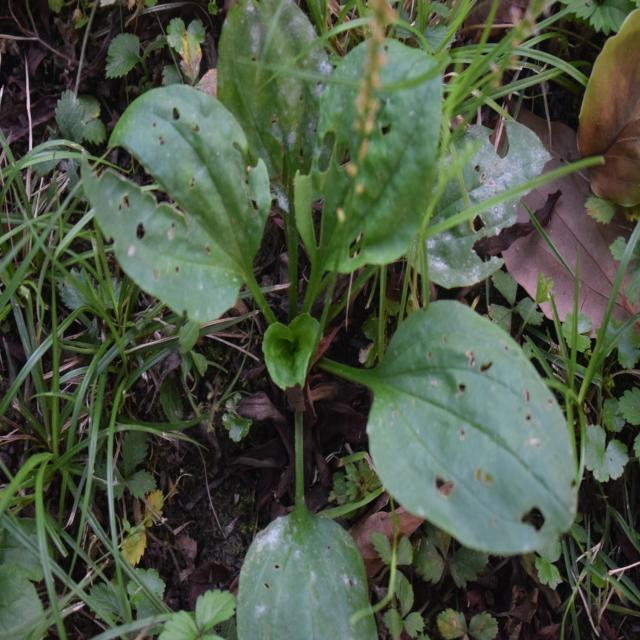plantain: (89, 20, 563, 574)
